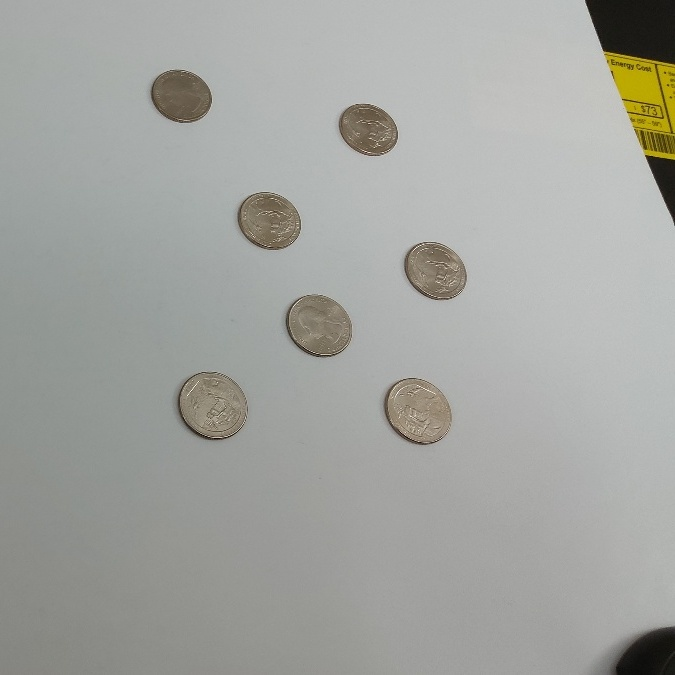coin_quarter: (168, 366, 249, 444), (282, 283, 355, 358), (382, 372, 454, 446), (148, 64, 213, 127), (403, 238, 467, 301), (238, 190, 303, 252), (335, 96, 400, 158)
